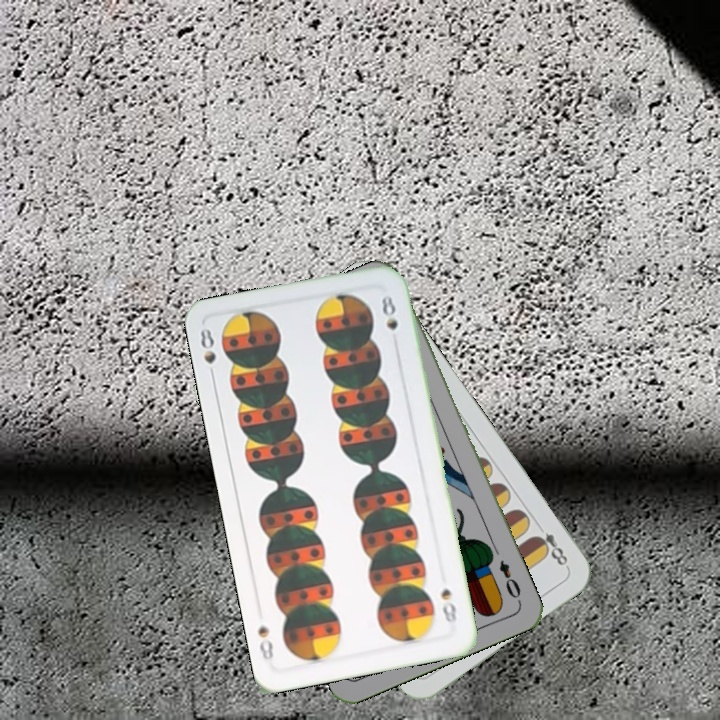E8: (529, 528, 571, 571)
EO: (495, 556, 523, 601)
S8: (196, 324, 219, 383), (437, 584, 459, 625)
